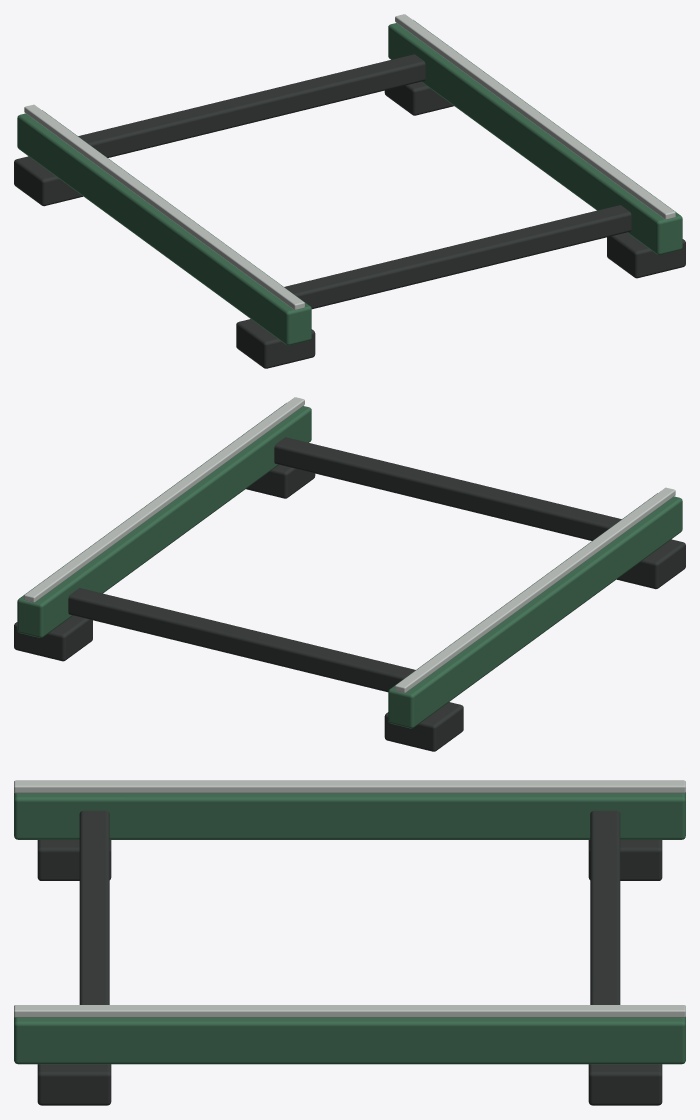
File: sawmill-and-timber-yard-sawmill-bed-rail-ecd82cf2__31161.glb
3 renders of one model, top to bottom at view 1: azimuth 30°, elevation 25°; view 2: azimuth 150°, elevation 25°; view 3: azimuth 270°, elevation 25°, orthographic. The views are drawn at different scales.
Parts seen in each view (by area): view 1: sawmill-bed-rail; view 2: sawmill-bed-rail; view 3: sawmill-bed-rail.
Boxes of the visible parts, x1,y1,x2,y2 form: sawmill-bed-rail: (14,14,685,368); sawmill-bed-rail: (14,397,685,751); sawmill-bed-rail: (14,780,685,1105).
Size of the model in its own units: 1.8 by 0.275 by 2.
